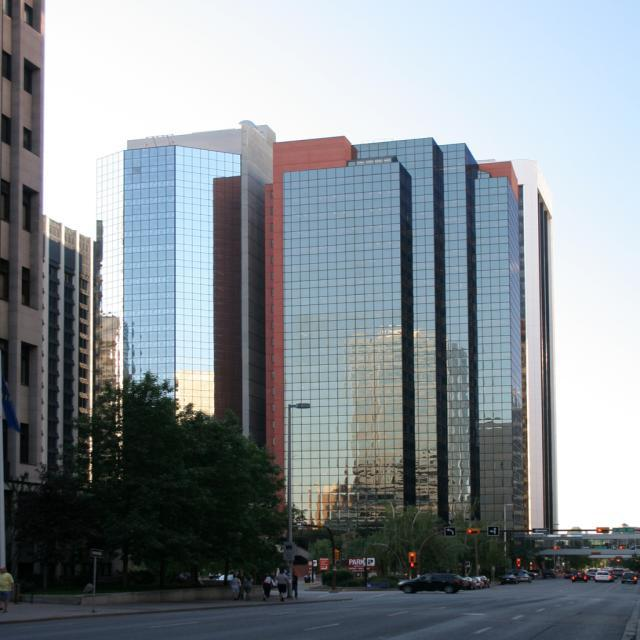traffic light: (407, 551, 418, 571), (467, 527, 480, 534)
